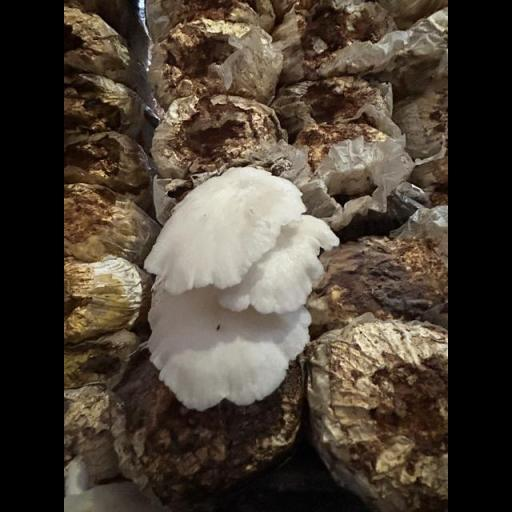White Oyster Mushroom: (144, 162, 343, 410)
